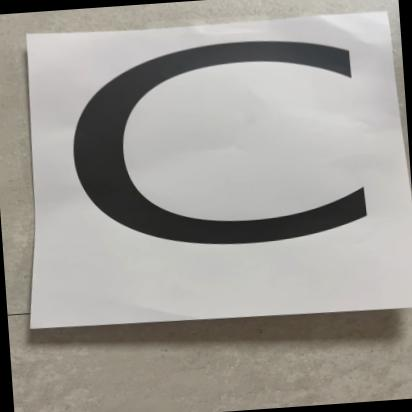seat: (39, 7, 412, 336)
